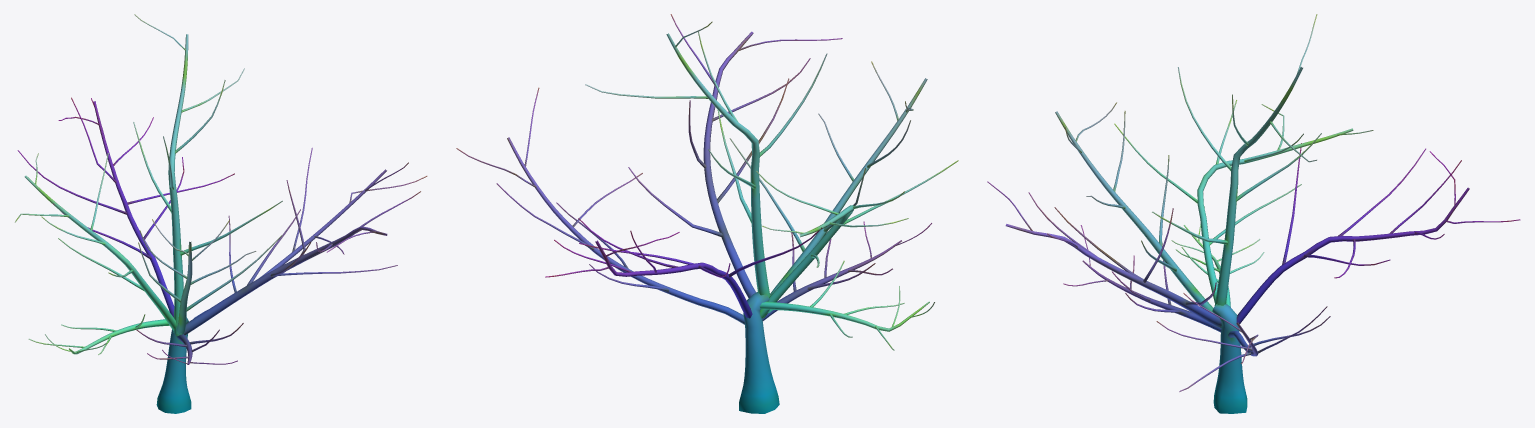
File: sakura-grove-b.glb
3 views of the same model, side by side, from view 1: azimuth 30°, elevation 25°; view 2: azimuth 150°, elevation 25°; view 3: azimuth 270°, elevation 25° (orthographic). The views are drawn at different scales.
Parts seen in each view (by area): view 1: bark; view 2: bark; view 3: bark.
Boxes of the visible parts, bbox=[...] form: bark: bbox=[15, 14, 427, 413]; bark: bbox=[456, 14, 958, 413]; bark: bbox=[987, 14, 1520, 413].
Bounding box in the file's own units: 13.22 × 11.44 × 14.05.
